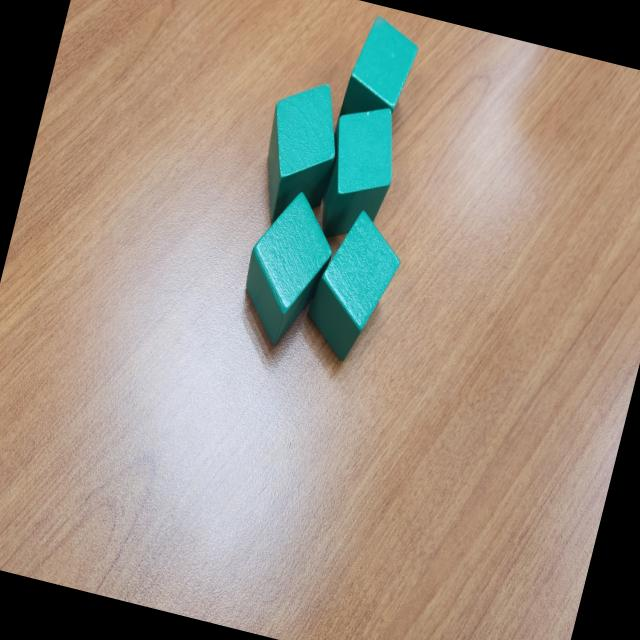green: (228, 184, 345, 356), (296, 200, 411, 370), (246, 72, 352, 235), (308, 94, 409, 249), (335, 10, 424, 140)
